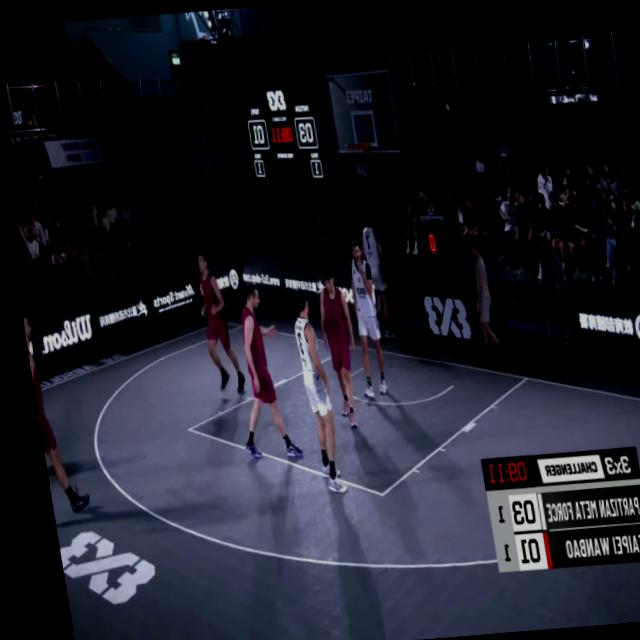hoop: (341, 138, 372, 184)
player: (18, 305, 88, 532), (215, 280, 295, 474), (283, 289, 340, 497), (307, 257, 361, 428), (333, 233, 385, 402), (186, 245, 241, 398), (353, 209, 395, 345)
